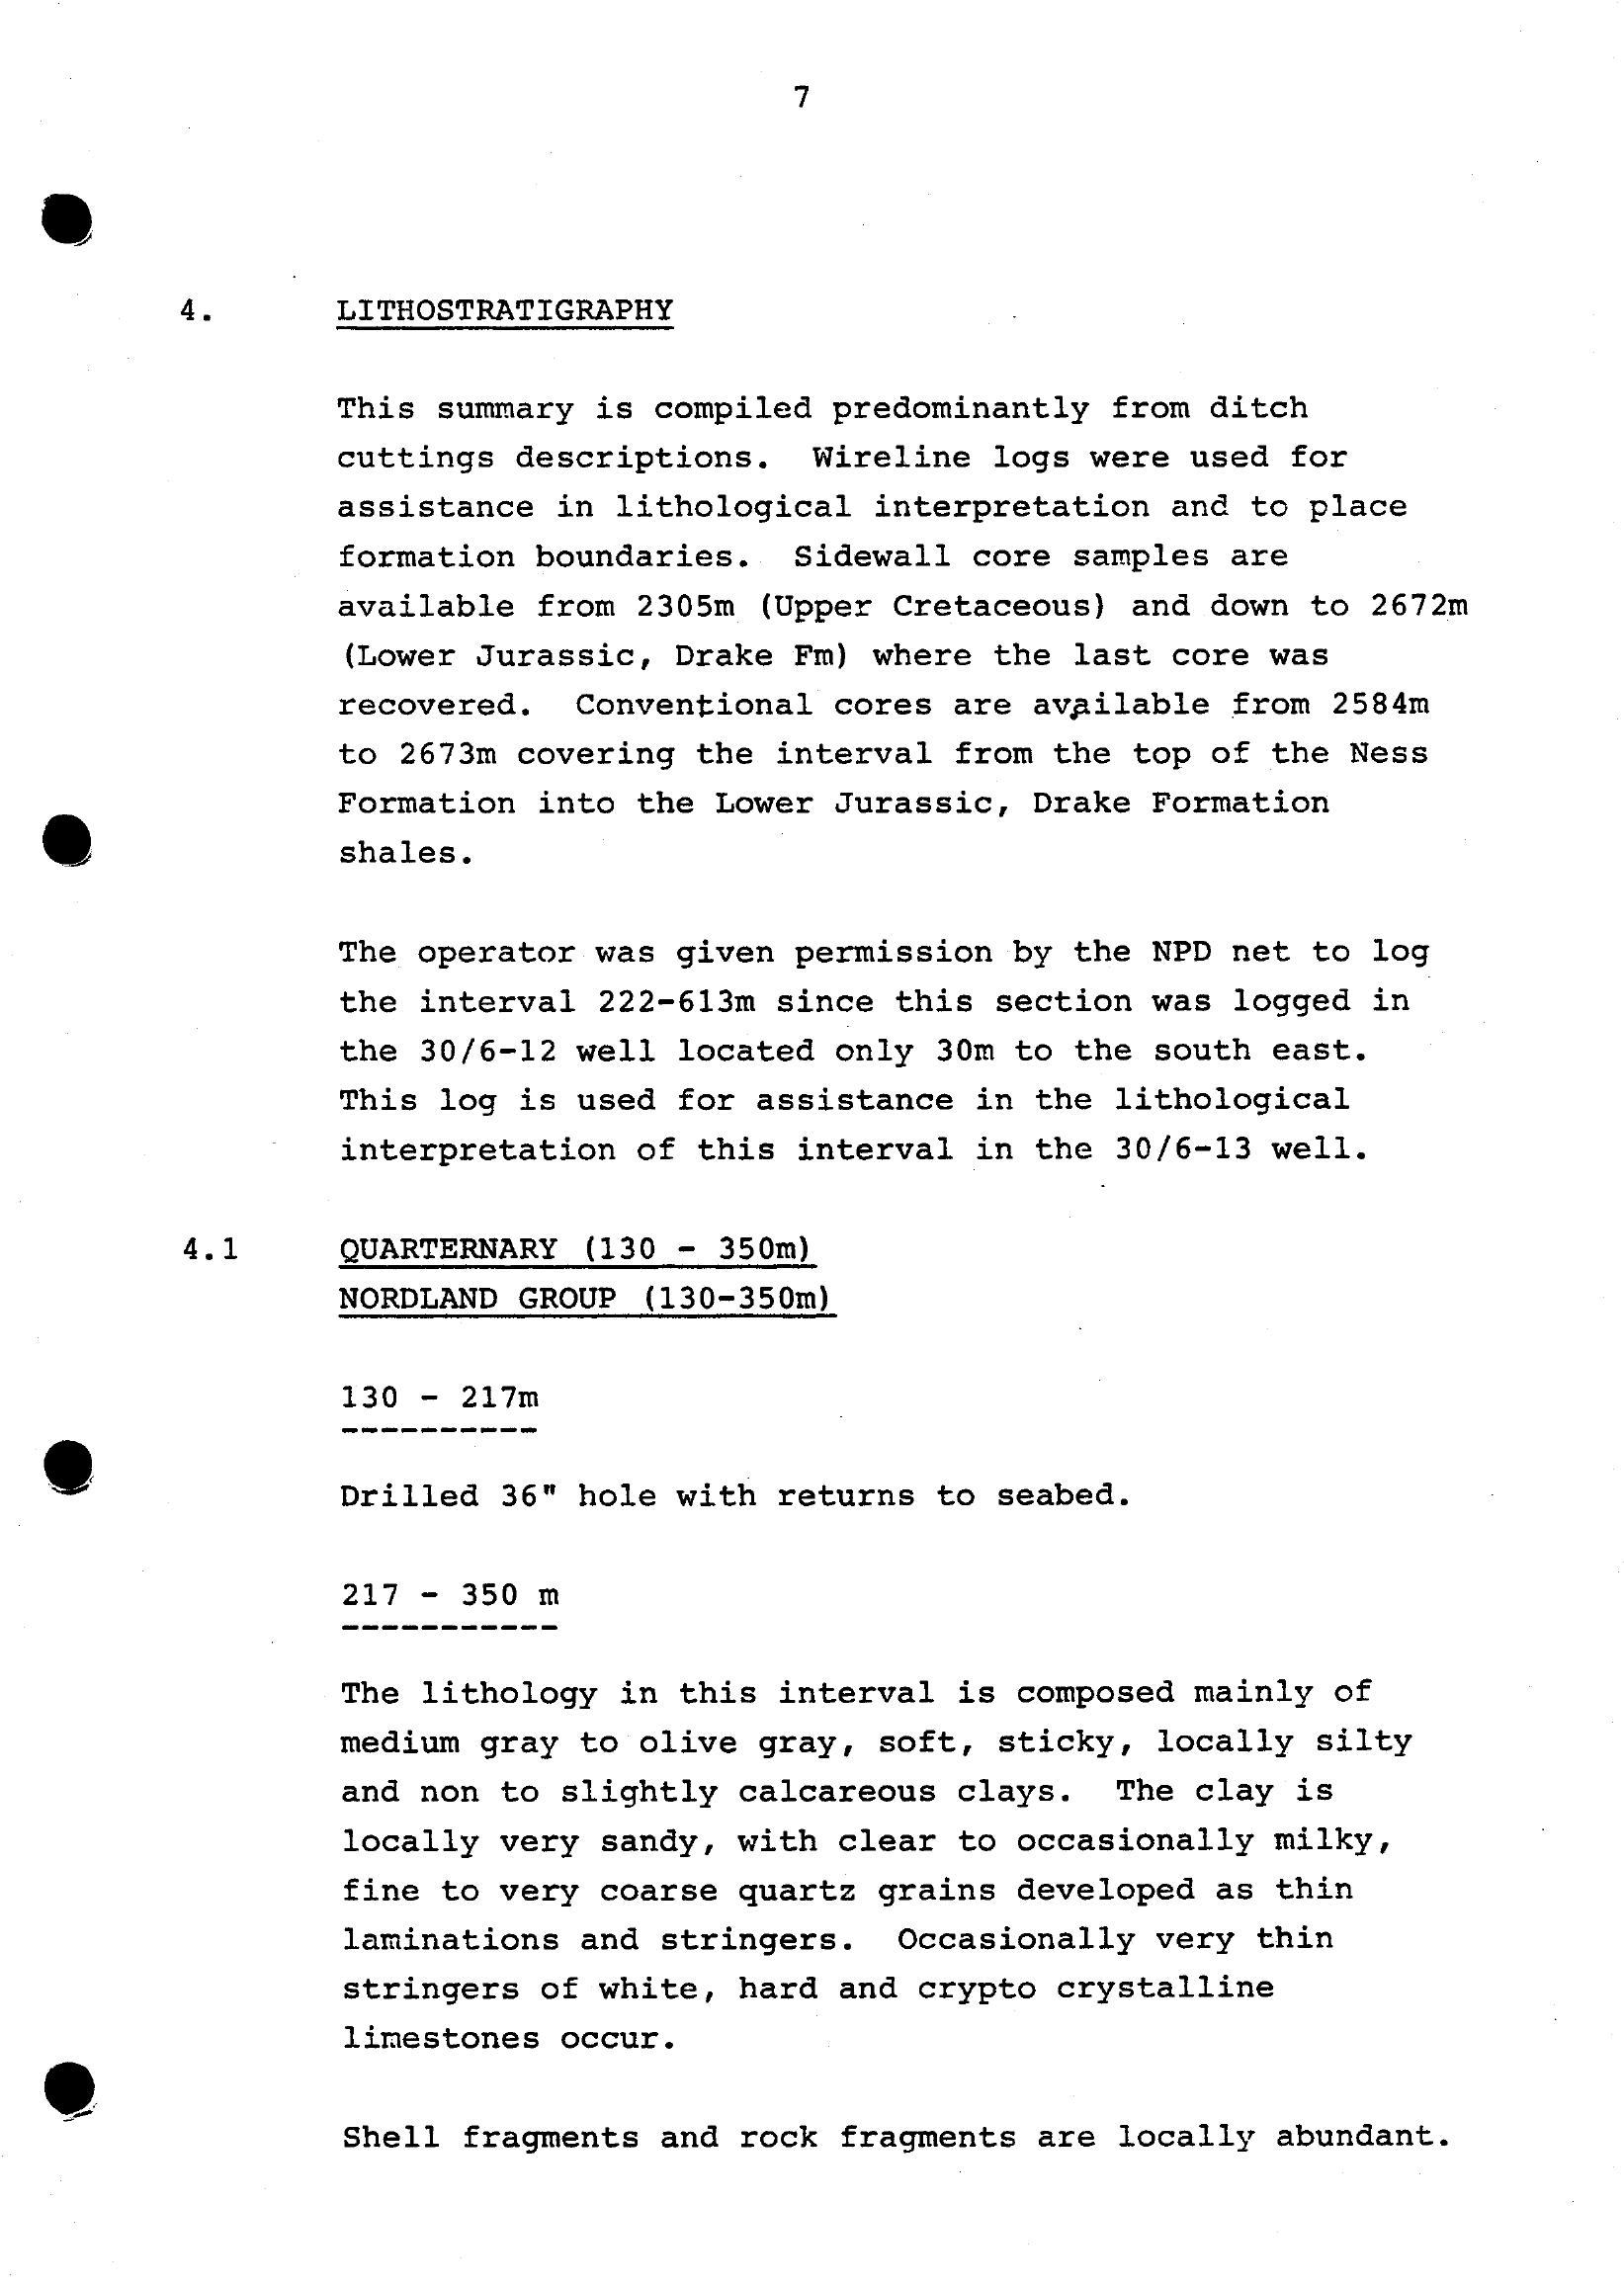text: (301, 1232, 1499, 2191), (301, 239, 1501, 1197)
